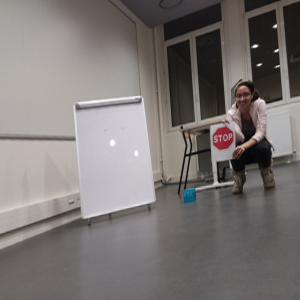stop: (212, 127, 234, 149)
